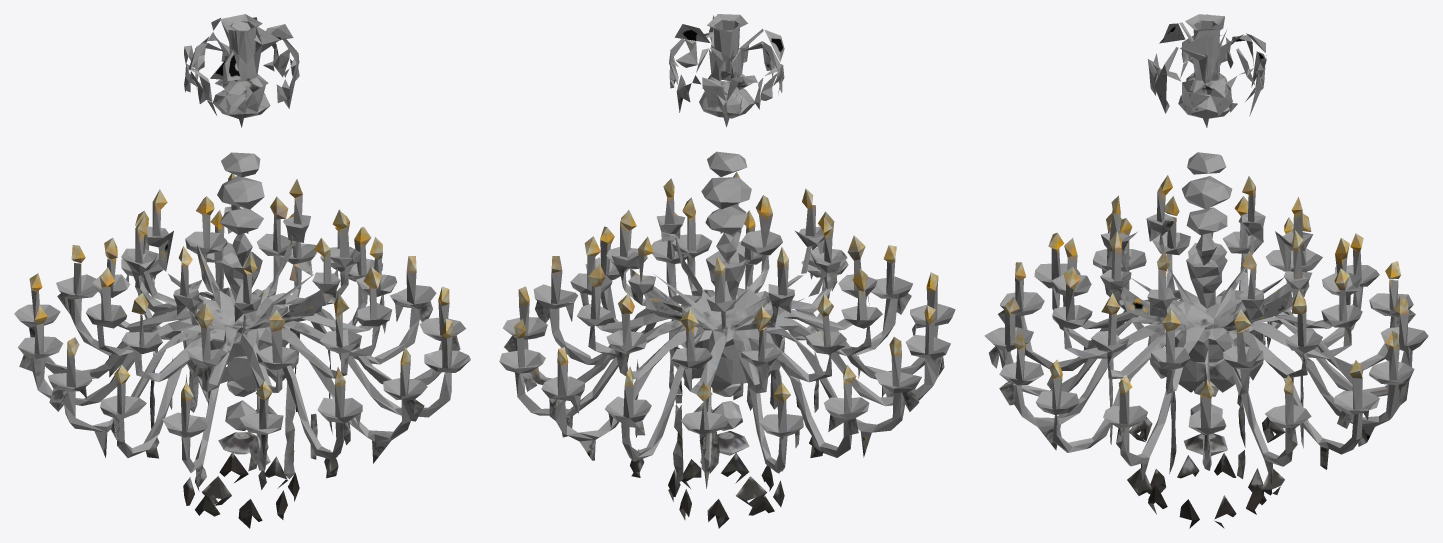
Rendered from crystalLampara.fbx.
The picture shows the model from 3 angles, left to right: view 1: azimuth 30°, elevation 25°; view 2: azimuth 150°, elevation 25°; view 3: azimuth 270°, elevation 25°; orthographic projection.
Visible parts, largest first — view 1: tripo_node_2ca2b9b4; view 2: tripo_node_2ca2b9b4; view 3: tripo_node_2ca2b9b4.
Part boxes in pixels (x1,y1,x2,y2): tripo_node_2ca2b9b4: [14, 14, 470, 528]; tripo_node_2ca2b9b4: [499, 14, 955, 528]; tripo_node_2ca2b9b4: [984, 14, 1428, 528].
Bounding box in the file's own units: 0.7908 × 0.9528 × 0.7915.
Materials: 1 (1 with a texture image).
